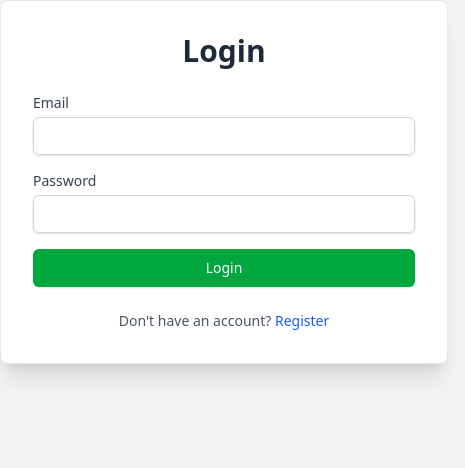
LoginForm › shows error message on API error
Type "fail@example.com" into the field labelled "Email".
click(224, 136); type("fail@example.com")  # box [33, 117, 415, 155]
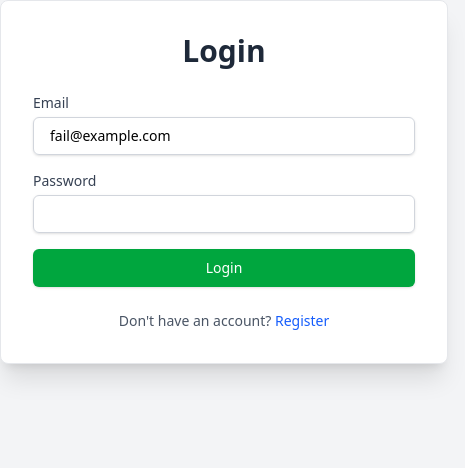
Type "wrong" into the password field labelled "Password".
click(224, 214); type("wrong")  # box [33, 195, 415, 233]
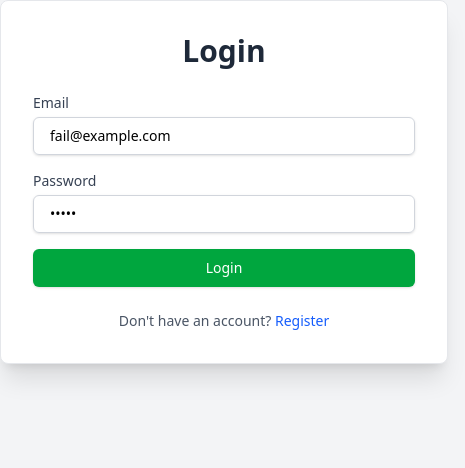
Click the button "Login".
click(224, 268)  # box [33, 249, 415, 287]
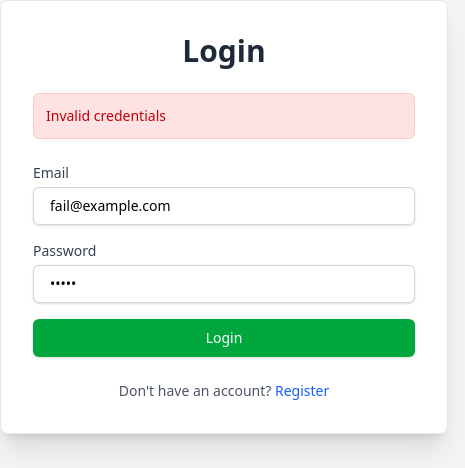
Expected: the text "Invalid credentials" is shown, [33, 93, 415, 139]
